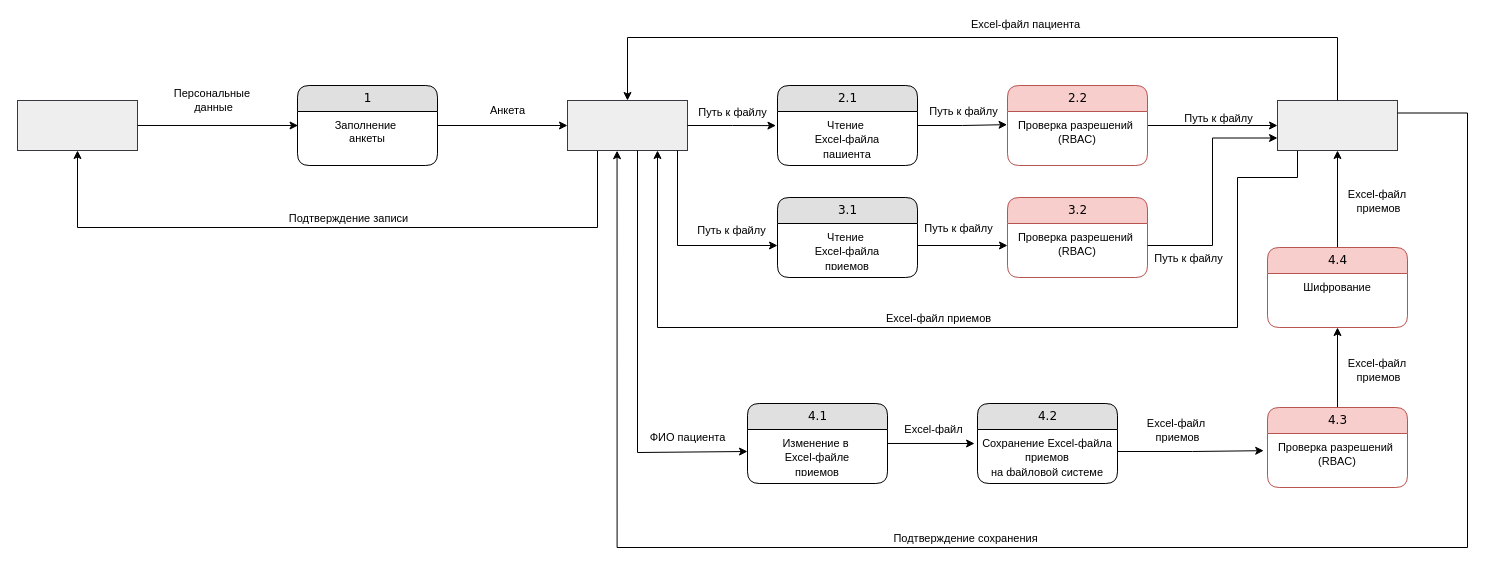
Some shapes in this 1493 by 573 pixel diagram are drawn without their labels. Each missing label, with the box of its shape:
Пациент: (16, 100, 138, 150)
Сотрудник ресепшена: (566, 100, 688, 150)
Файловая система: (1276, 100, 1398, 150)
